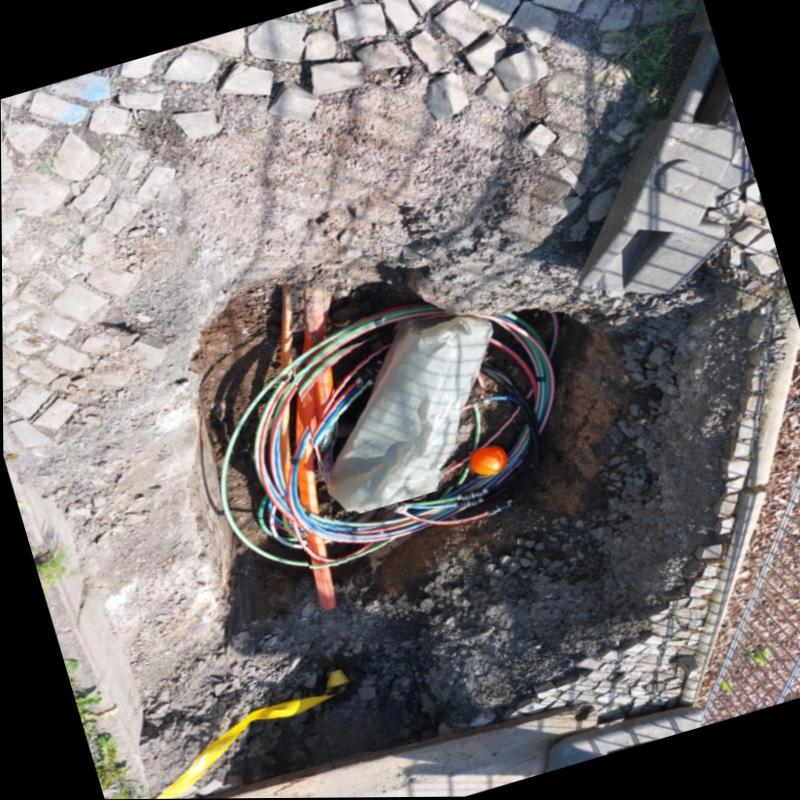Kugelmarker: (469, 446, 506, 475)
NT-Muffen: (323, 314, 492, 512)
Orang-Speednetrohrchen: (296, 441, 333, 610)
